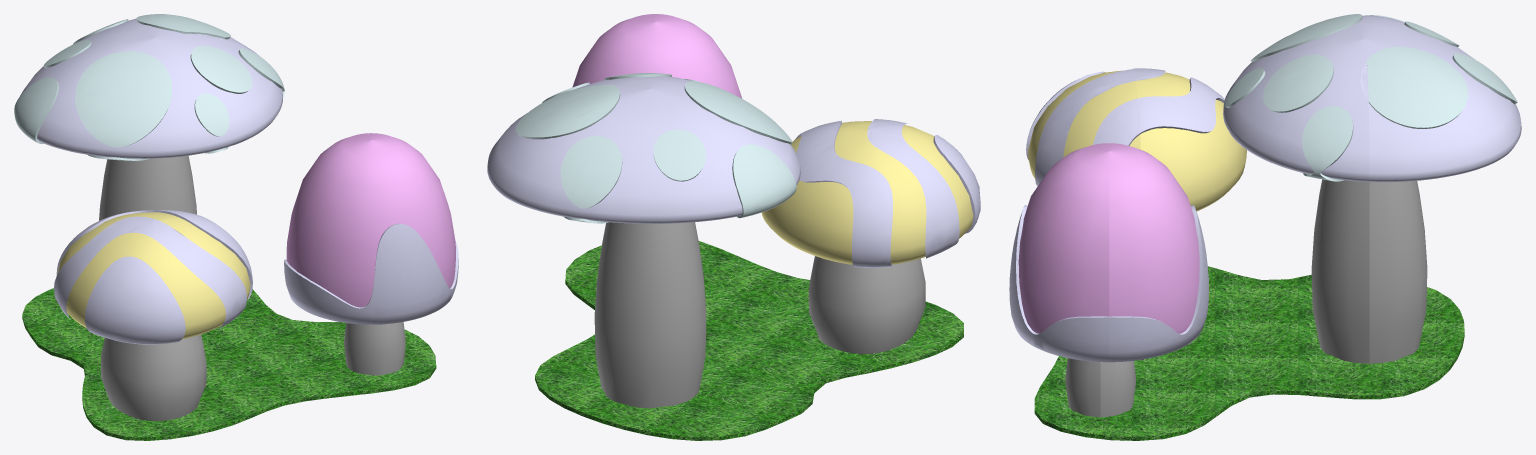
Rendered from mushroom.glb.
3 renders of one model, left to right at view 1: azimuth 30°, elevation 25°; view 2: azimuth 150°, elevation 25°; view 3: azimuth 270°, elevation 25°, orthographic. The views are drawn at different scales.
Parts seen in each view (by area): view 1: Node; view 2: Node; view 3: Node.
Boxes of the visible parts, left/top/right/bottom form: Node: left=14, top=14, right=458, bottom=440; Node: left=487, top=14, right=980, bottom=440; Node: left=1009, top=14, right=1521, bottom=440.
Size of the model in its own units: 218 by 154 by 231.
Materials: 6 (1 with a texture image).
